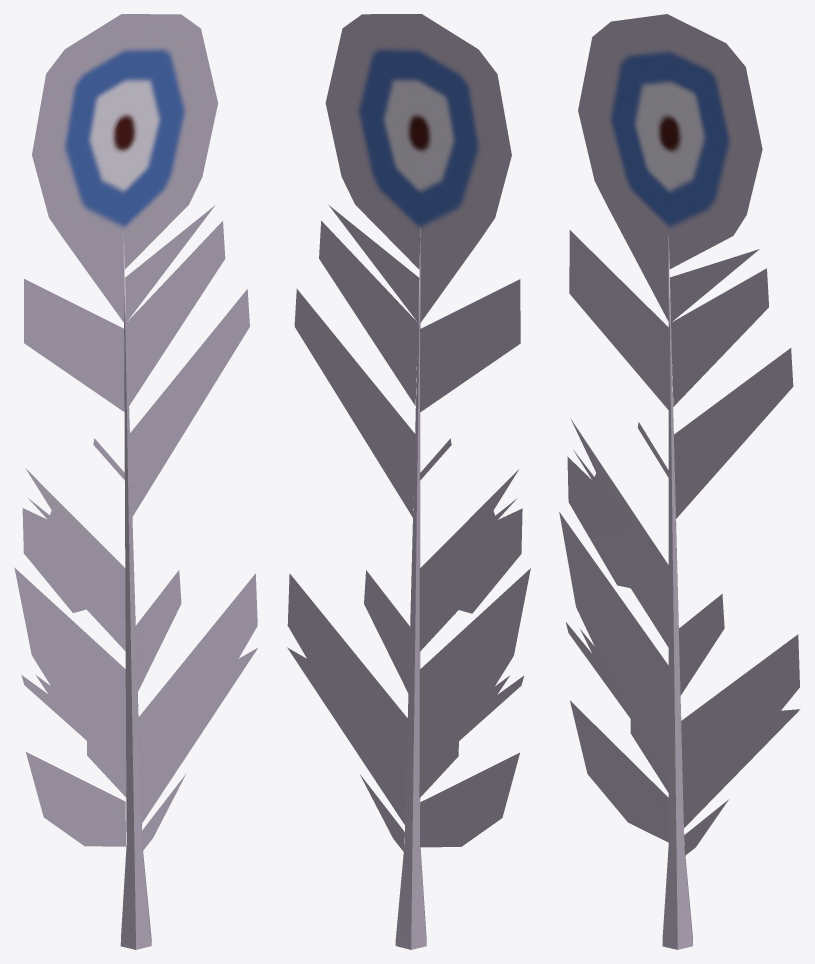
The model's file is Magelan_Feather.fbx.
3 renders of one model, left to right at view 1: azimuth 30°, elevation 25°; view 2: azimuth 150°, elevation 25°; view 3: azimuth 330°, elevation 25°, orthographic.
Visible parts, largest first — view 1: Magelan_Feather; view 2: Magelan_Feather; view 3: Magelan_Feather.
Boxes of the visible parts, x1,y1,x2,y2 form: Magelan_Feather: [14, 14, 257, 949]; Magelan_Feather: [287, 14, 530, 949]; Magelan_Feather: [559, 14, 800, 949].
Bounding box in the file's own units: 73.33 × 267 × 8.02.
1 material, 1 textured.
